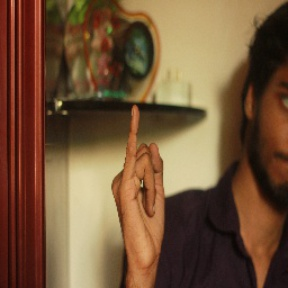I: (111, 101, 171, 258)
